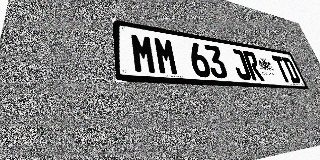3: (204, 44, 229, 79)
6: (187, 42, 212, 78)
D: (281, 57, 302, 83)
J: (229, 48, 252, 80)
M: (130, 33, 158, 75), (153, 36, 180, 76)
R: (242, 51, 265, 81)
T: (271, 55, 292, 83)
